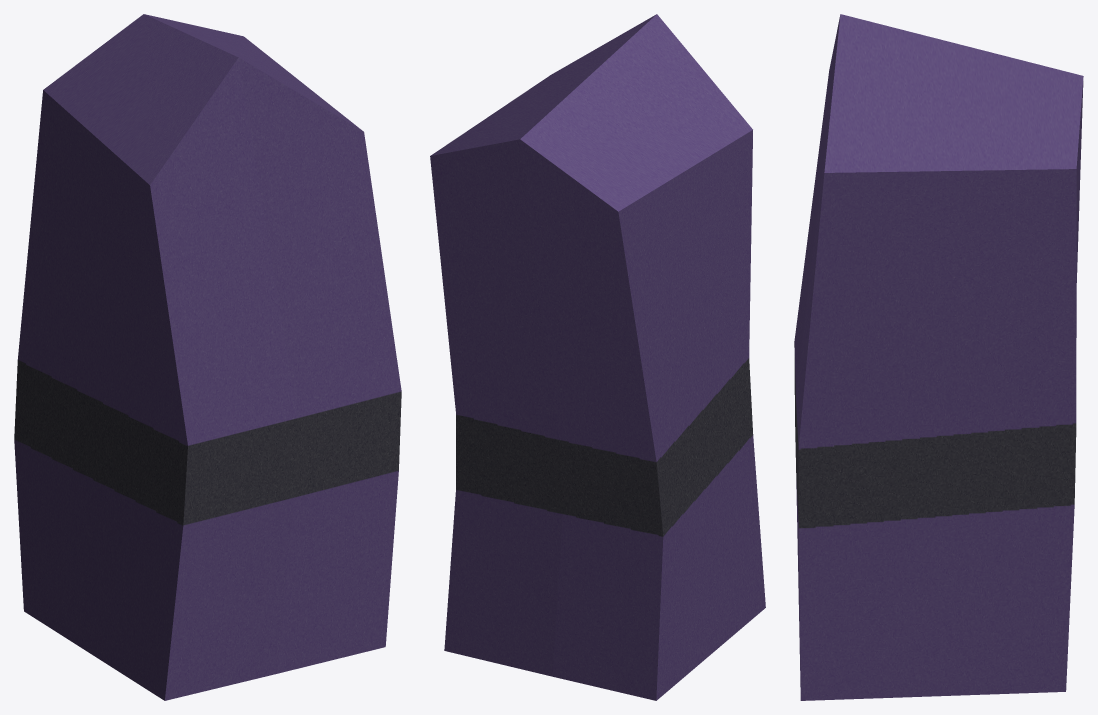
File: milk4.fbx
3 renders of one model, left to right at view 1: azimuth 30°, elevation 25°; view 2: azimuth 150°, elevation 25°; view 3: azimuth 270°, elevation 25°, orthographic. The views are drawn at different scales.
Parts seen in each view (by area): view 1: milk.003; view 2: milk.003; view 3: milk.003.
Boxes of the visible parts, x1,y1,x2,y2 form: milk.003: (14,14,401,700); milk.003: (430,14,765,700); milk.003: (794,14,1083,700).
Size of the model in its own units: 55.08 by 124 by 52.02.
